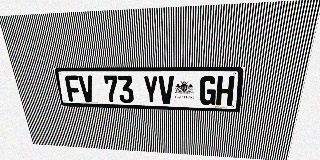3: (117, 76, 134, 103)
7: (103, 76, 120, 103)
F: (64, 75, 82, 102)
G: (199, 76, 217, 105)
H: (216, 76, 235, 106)
V: (78, 75, 95, 102), (158, 76, 174, 104)
Y: (143, 76, 159, 104)
